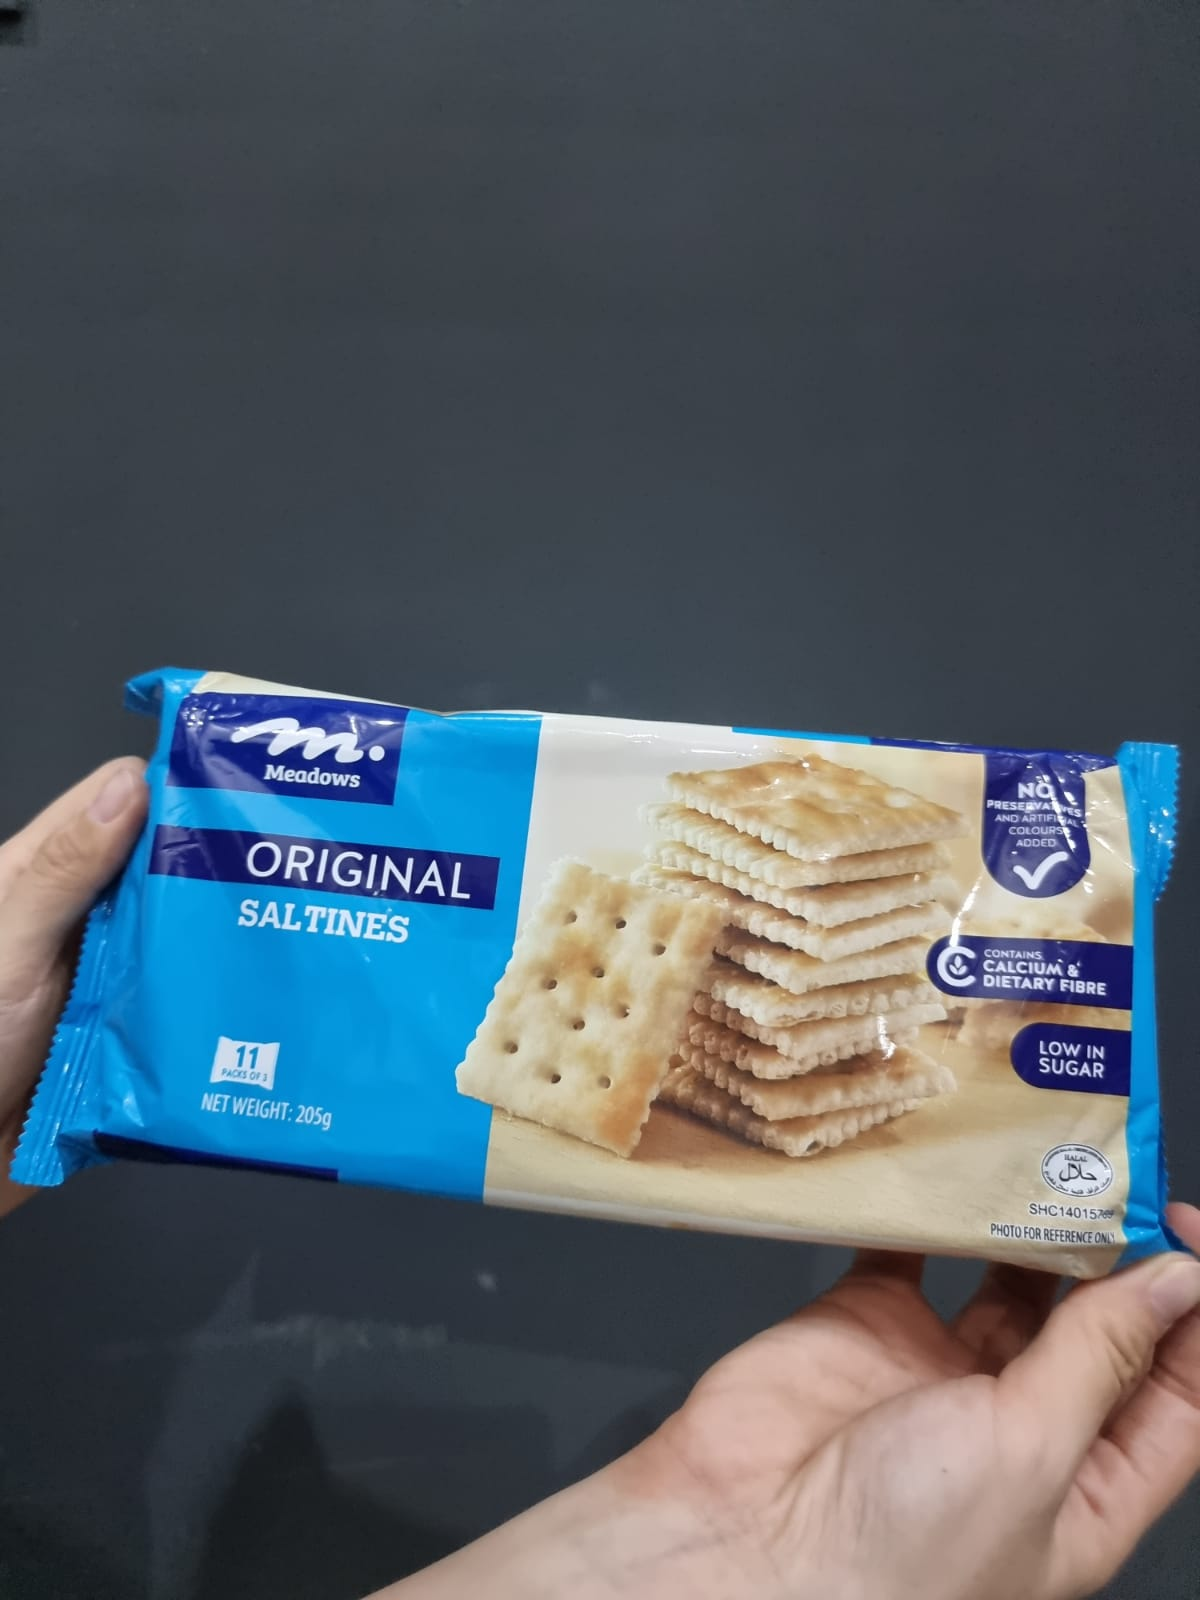Biscuits: (164, 700, 1129, 1246)
